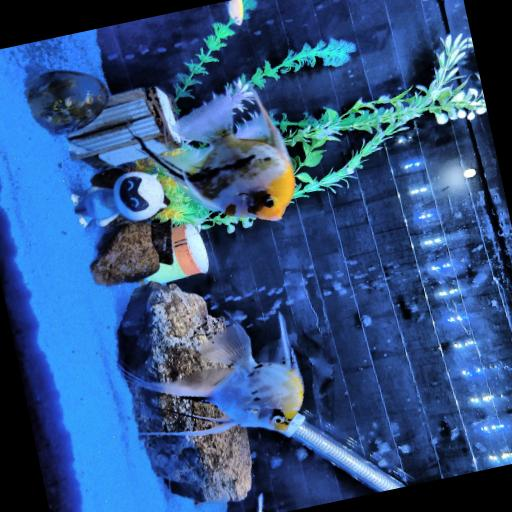Fish: (126, 315, 303, 436), (136, 95, 294, 221), (227, 0, 243, 25), (257, 494, 262, 511)
